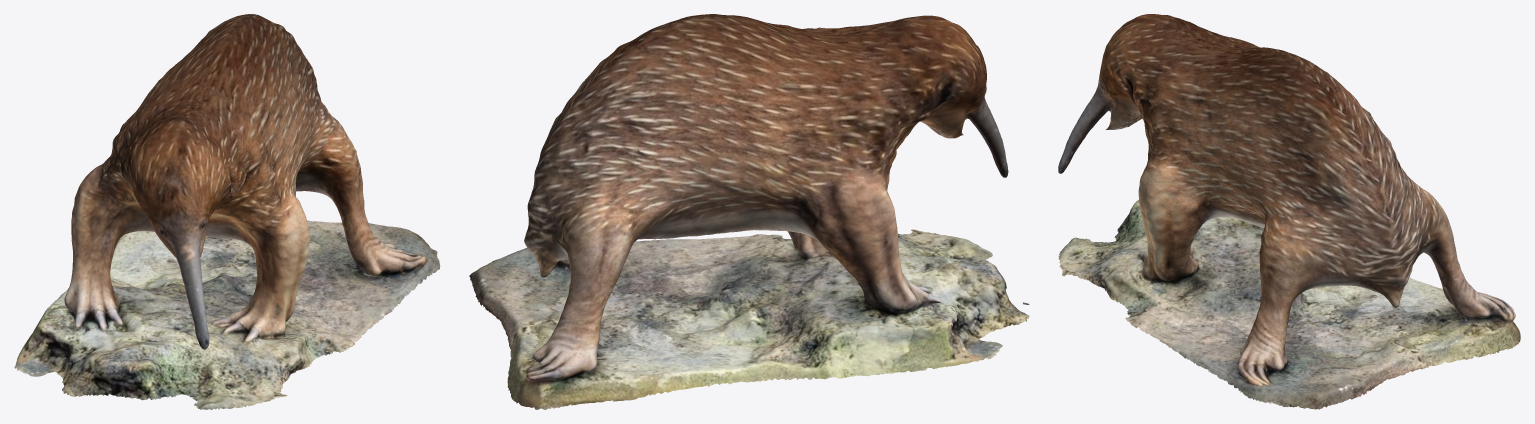
File: nokdiak-tubingen.glb
3 views of the same model, side by side, from view 1: azimuth 30°, elevation 25°; view 2: azimuth 150°, elevation 25°; view 3: azimuth 270°, elevation 25° (orthographic). The views are drawn at different scales.
Size of the model in its own units: 1327 by 796 by 1266.
1 material, 1 textured.
